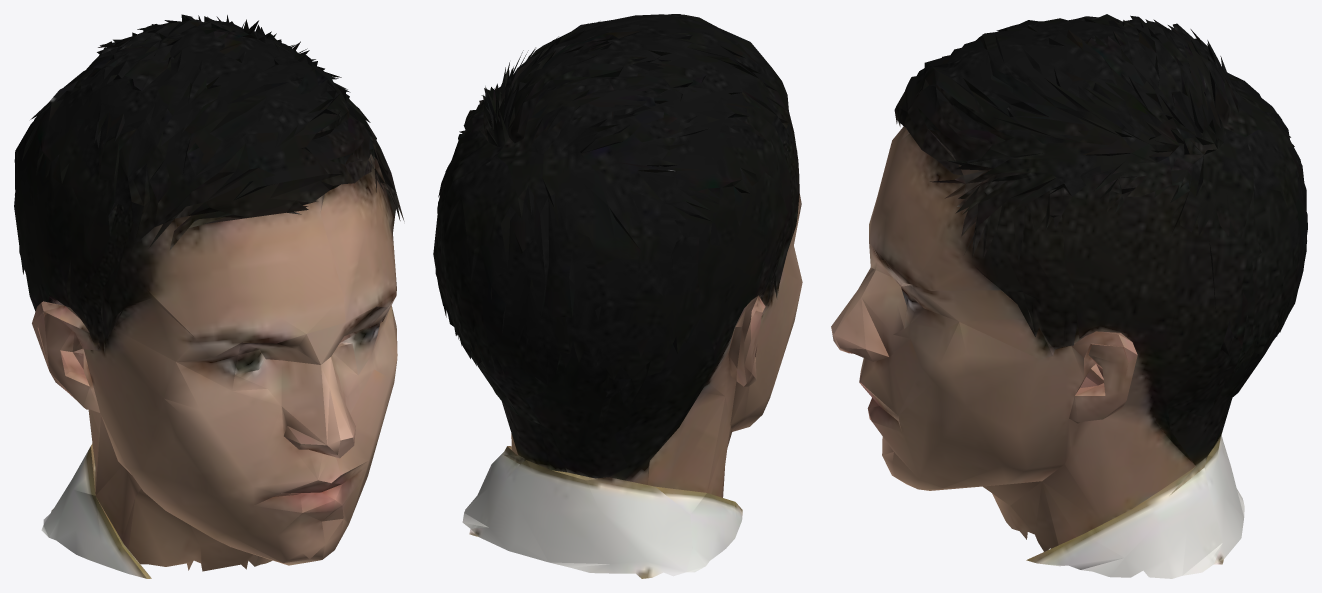
Rendered from item.vale_head.glb.
3 views of the same model, side by side, from view 1: azimuth 30°, elevation 25°; view 2: azimuth 150°, elevation 25°; view 3: azimuth 270°, elevation 25° (orthographic). The views are drawn at different scales.
Parts seen in each view (by area): view 1: body; view 2: body; view 3: body.
Part boxes in pixels (box(x1,y1,x2,y2)): body: box(14, 14, 404, 578); body: box(433, 14, 802, 578); body: box(831, 14, 1307, 578).
Size of the model in its own units: 0.1851 by 0.2812 by 0.2484.
1 material, 1 textured.
